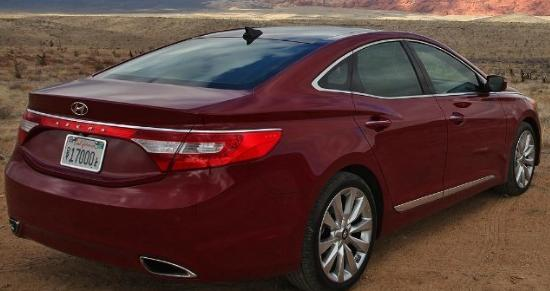back_view: (6, 87, 286, 286)
backlight: (129, 124, 284, 176)
side_glass: (308, 37, 496, 105)
